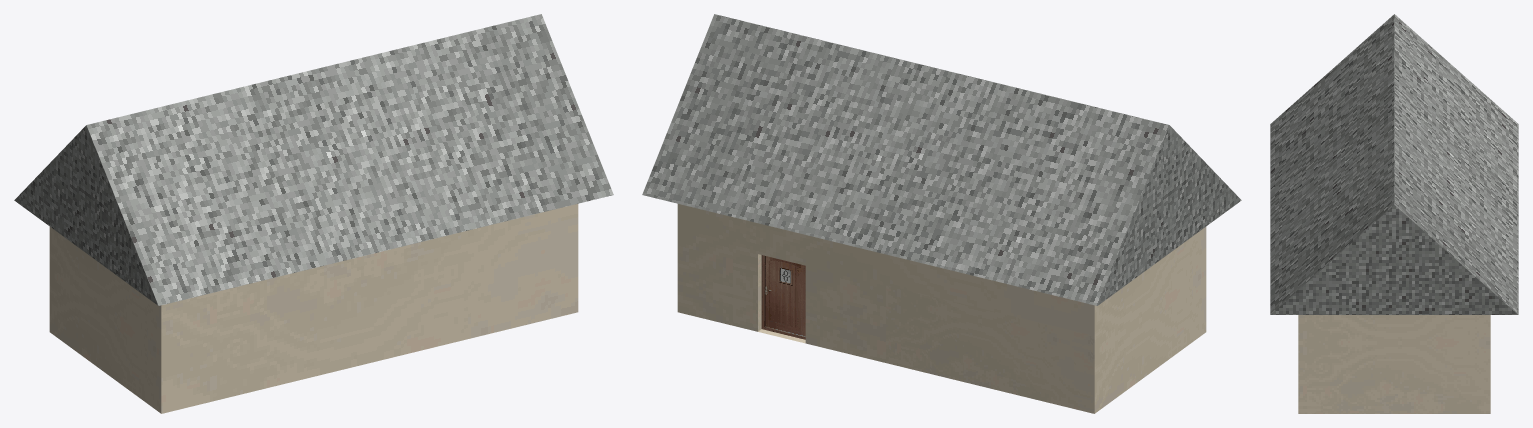
File: houseTest.glb
3 renders of one model, left to right at view 1: azimuth 30°, elevation 25°; view 2: azimuth 150°, elevation 25°; view 3: azimuth 270°, elevation 25°, orthographic. The views are drawn at different scales.
Parts seen in each view (by area): view 1: Cube; view 2: Cube; view 3: Cube.
Part boxes in pixels (<box>): Cube: <box>14,14,613,413</box>; Cube: <box>642,14,1241,413</box>; Cube: <box>1270,14,1518,413</box>.
Bounding box in the file's own units: 2.18 × 1.16 × 1.2.
Materials: 1 (1 with a texture image).
